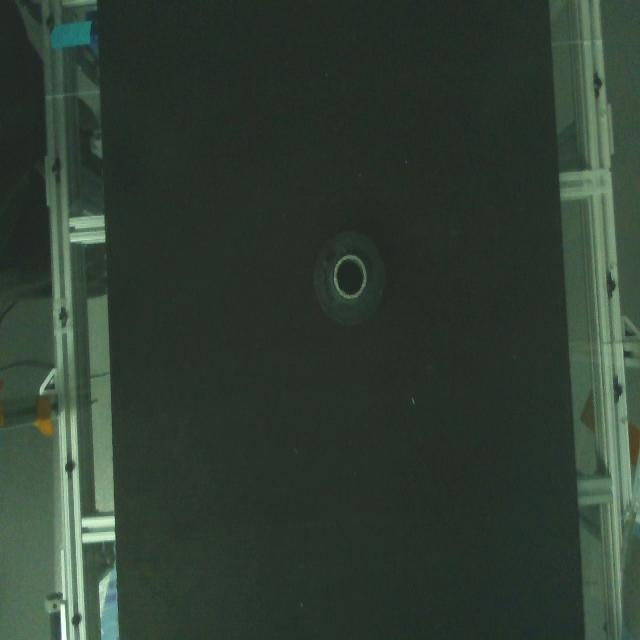non-paper: (300, 219, 400, 342)
